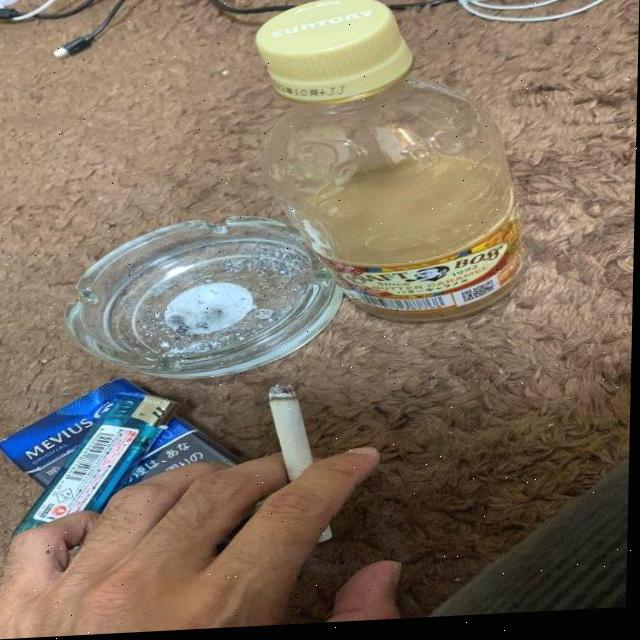cigarette: (266, 385, 337, 548)
